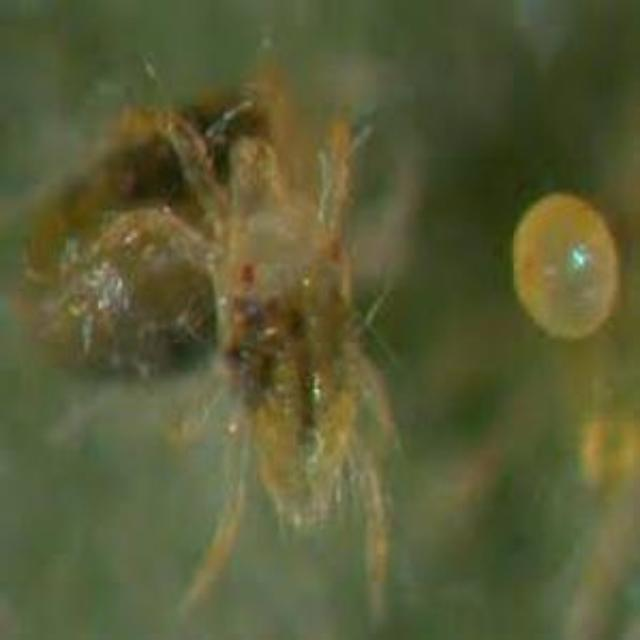spider mite: (90, 84, 452, 620)
